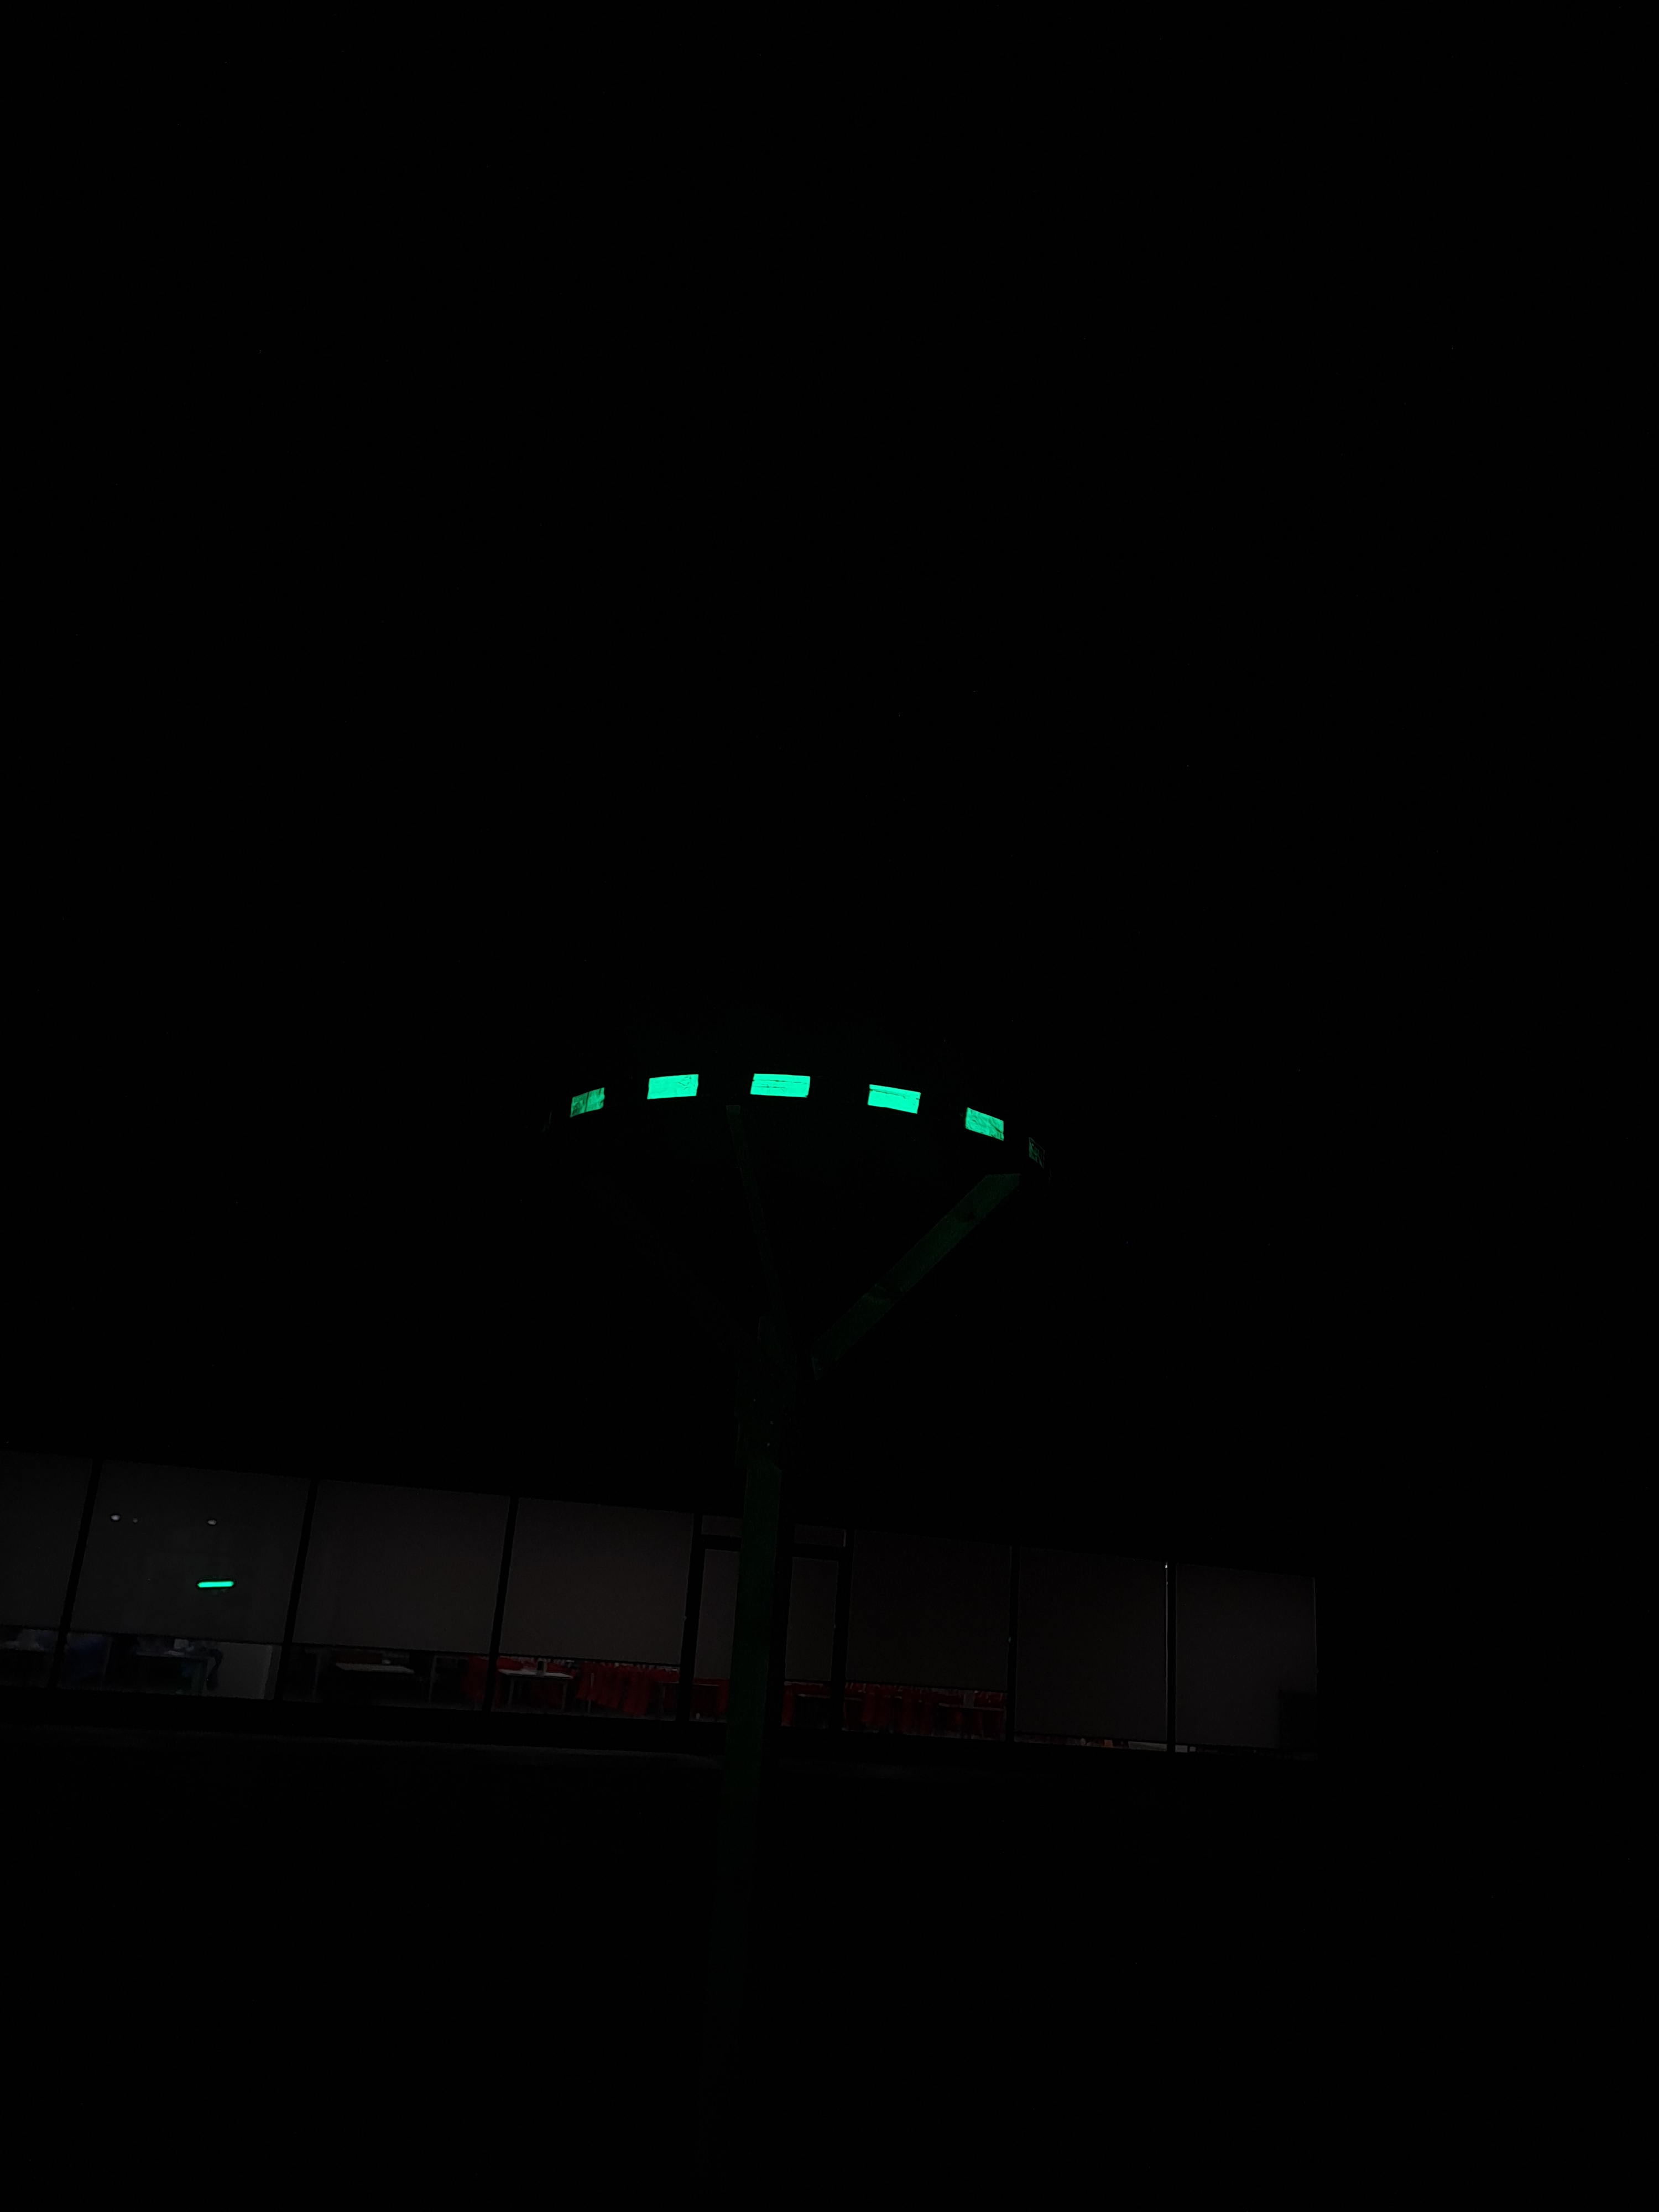hoop: (563, 1066, 1011, 1146)
